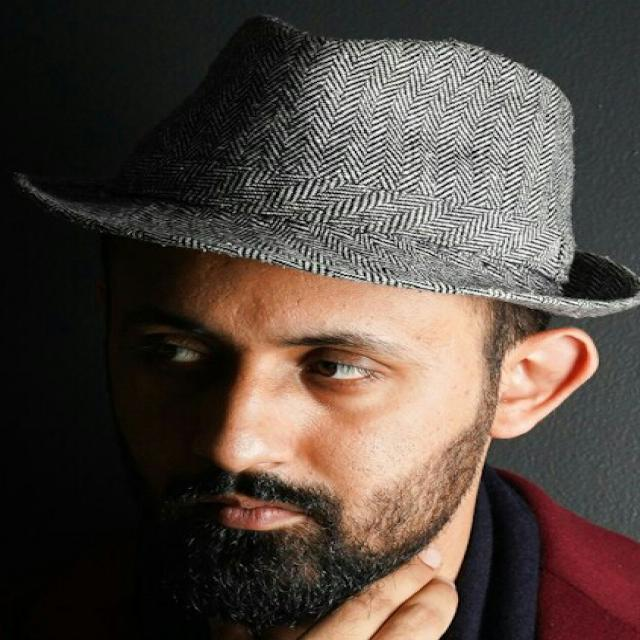front: (108, 296, 431, 551)
